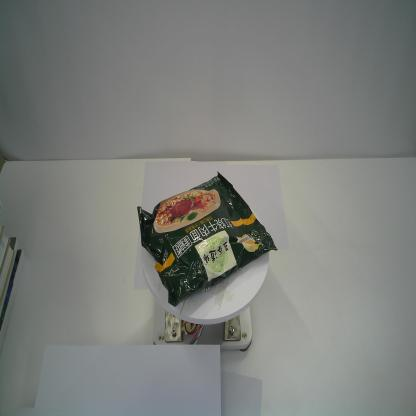Instant Noodles: (134, 170, 280, 310)
